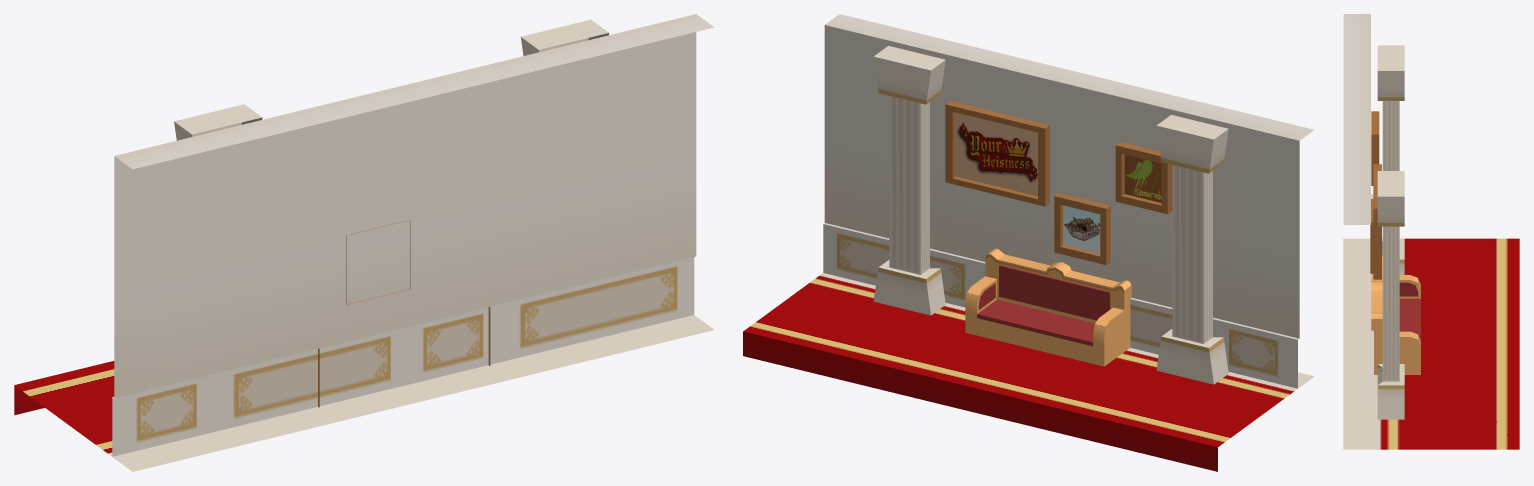
The model's file is wall_paint1.fbx.
The picture shows the model from 3 angles, left to right: view 1: azimuth 30°, elevation 25°; view 2: azimuth 150°, elevation 25°; view 3: azimuth 270°, elevation 25°; orthographic projection. The views are drawn at different scales.
Parts seen in each view (by area): view 1: wall_base4; view 2: wall_base4, couch1, bigpaint1, paint2, paint3; view 3: wall_base4, couch1, bigpaint1, paint3, paint2.
Part boxes in pixels (<box>): wall_base4: <box>14,14,714,471</box>; wall_base4: <box>743,14,1314,471</box>; couch1: <box>965,248,1131,366</box>; bigpaint1: <box>945,101,1049,206</box>; paint2: <box>1054,193,1110,264</box>; paint3: <box>1115,142,1172,214</box>; wall_base4: <box>1343,14,1519,449</box>; couch1: <box>1371,255,1420,374</box>; bigpaint1: <box>1373,164,1381,279</box>; paint3: <box>1371,111,1379,185</box>; paint2: <box>1370,199,1373,273</box>.
Bounding box in the file's own units: 1007 × 550 × 356.
